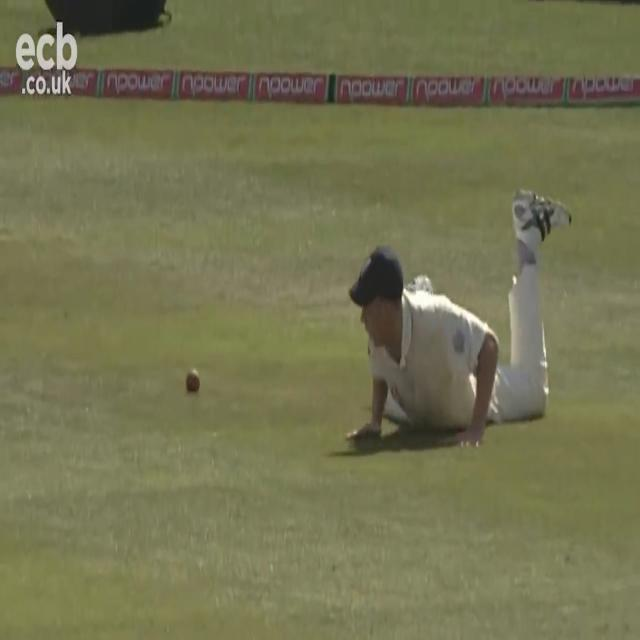ball: (182, 362, 206, 395)
